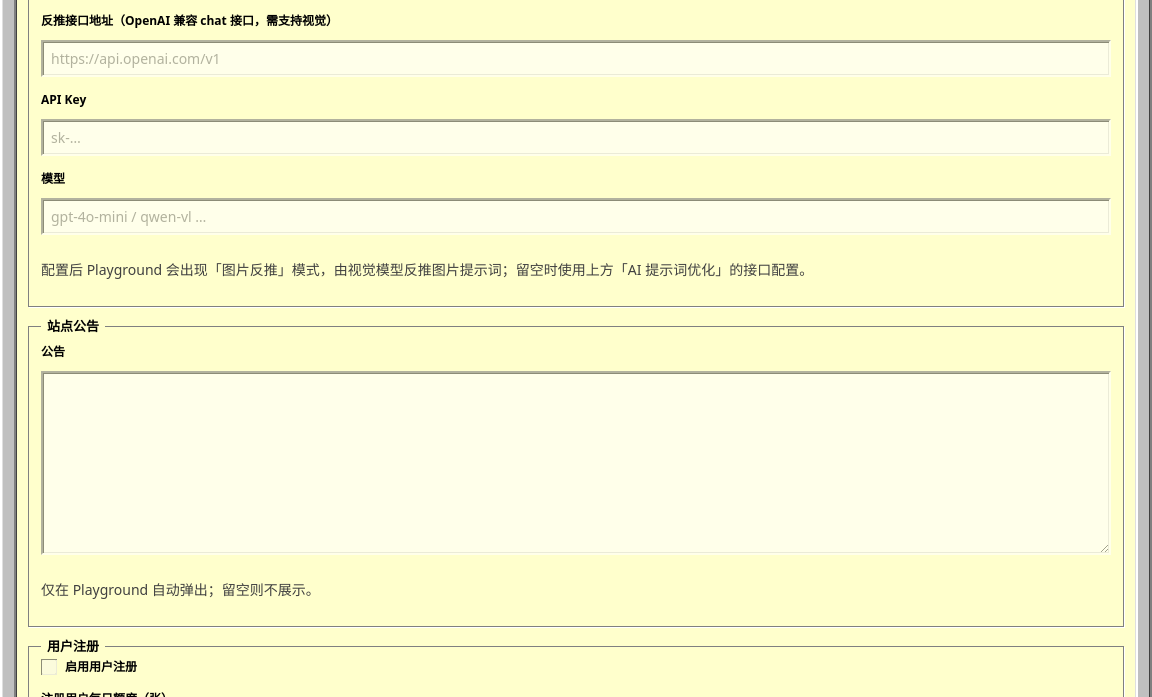
Test: SettingsTab › keeps saving disabled after a load failure and retries safely
(page scrolled)
Submit the form
(page scrolled)
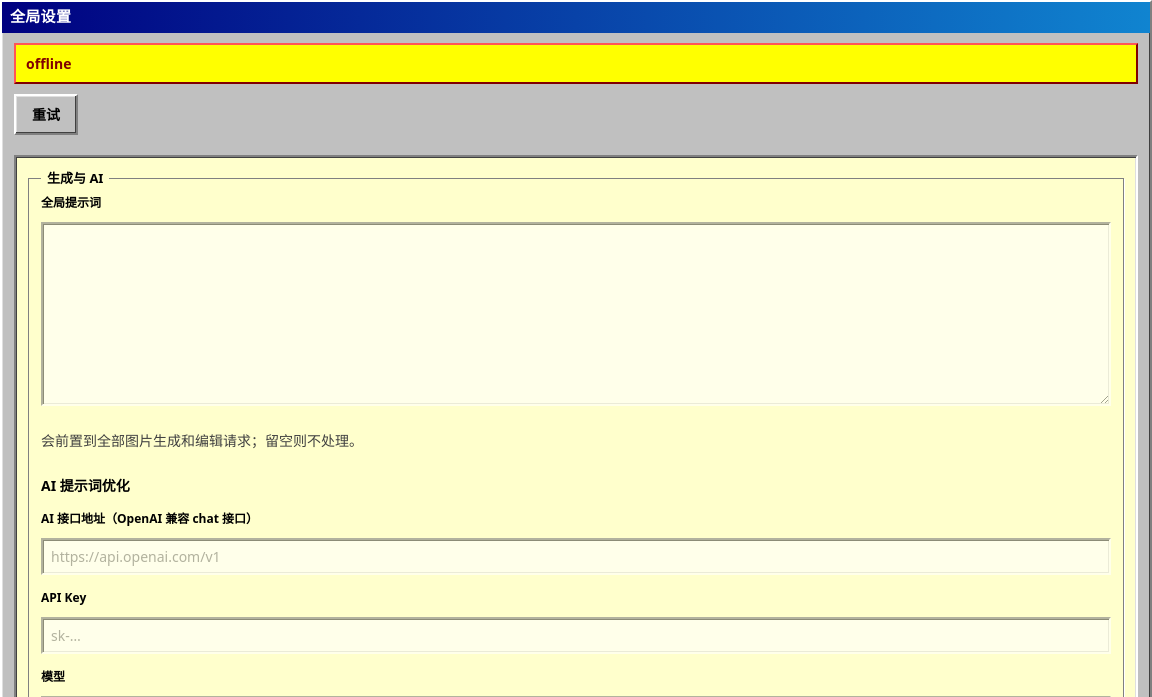
Click the button "重试" at coordinates (46, 114), box [14,94,78,134]
(page scrolled)
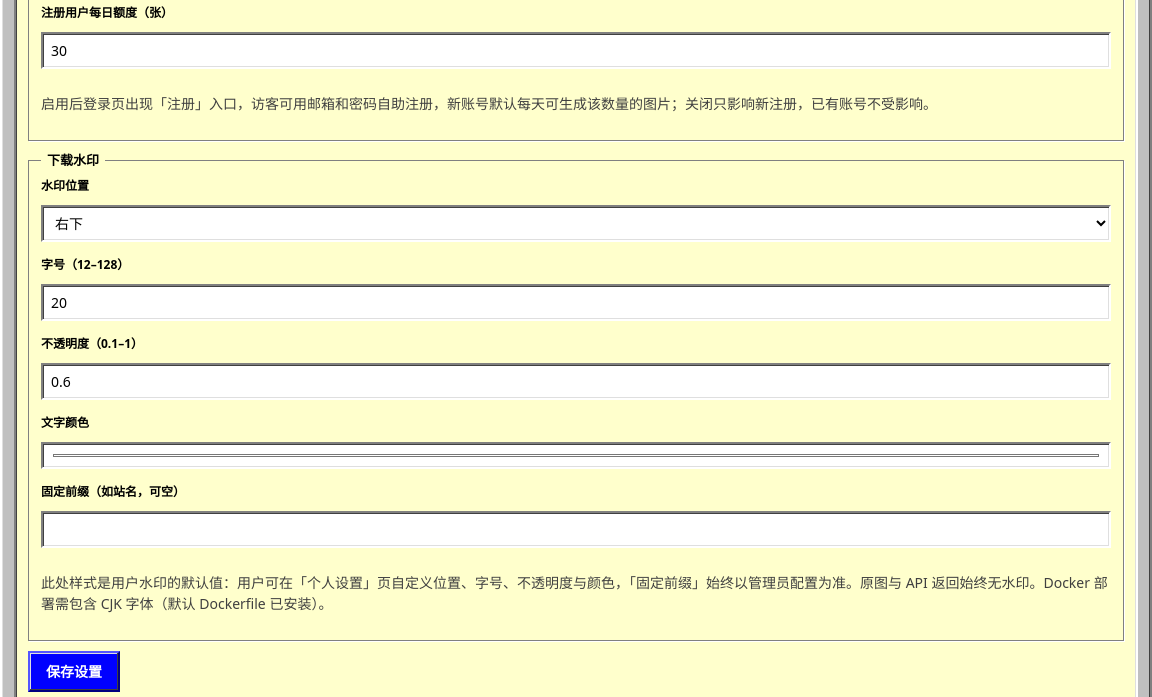
Check: the button "保存设置" is enabled, box [28,650,120,692]
